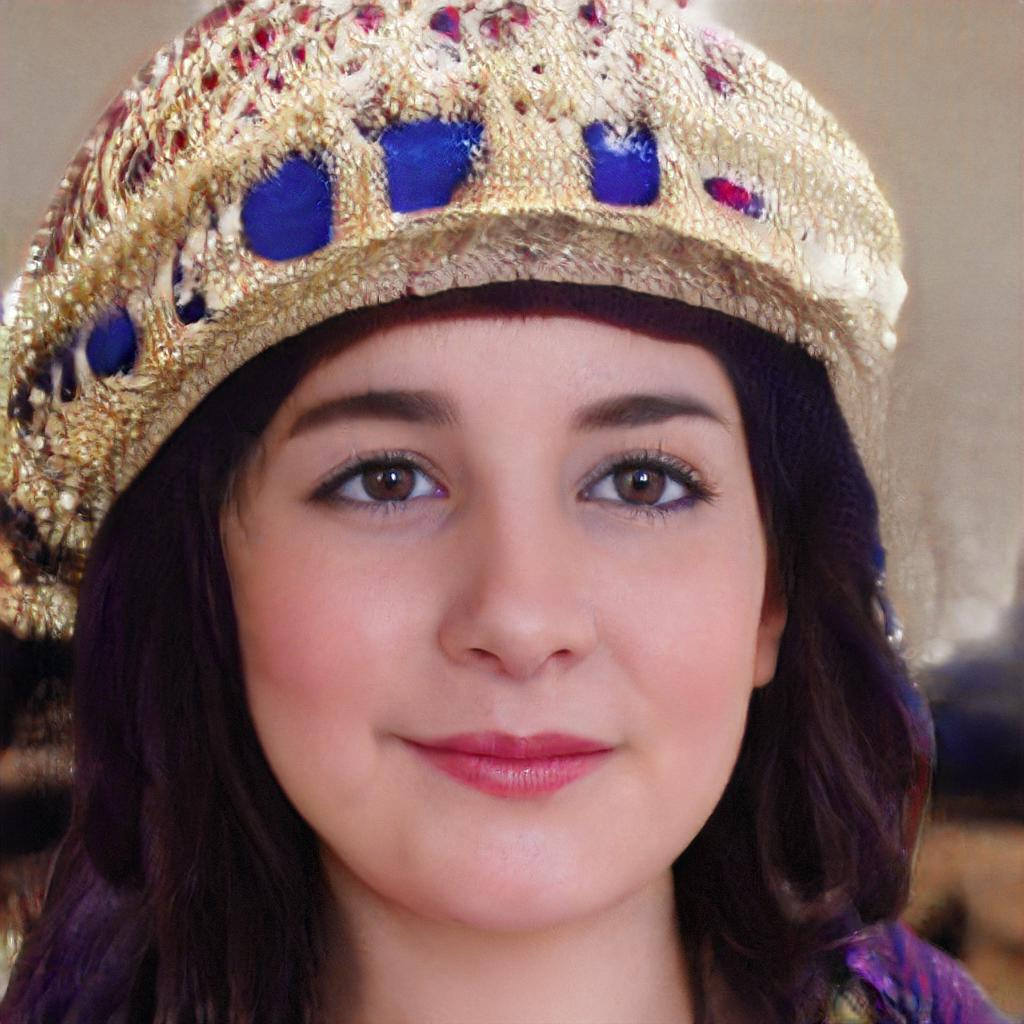face: (218, 312, 768, 931)
